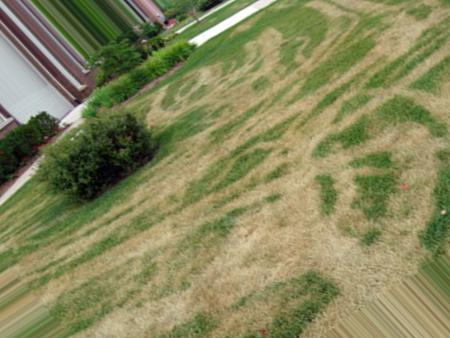patch: (272, 220, 368, 268), (218, 243, 288, 300), (101, 317, 145, 335), (147, 178, 176, 205), (151, 297, 186, 316), (151, 227, 185, 244), (290, 200, 326, 212), (169, 156, 190, 172), (82, 271, 106, 276)
